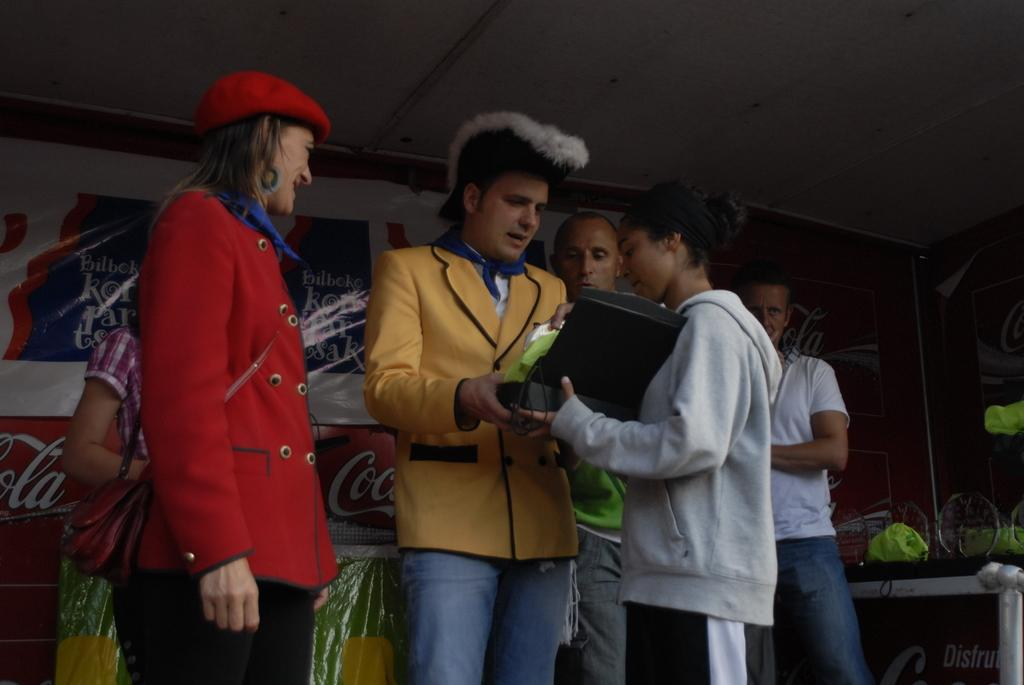Hat: (441, 114, 591, 219)
